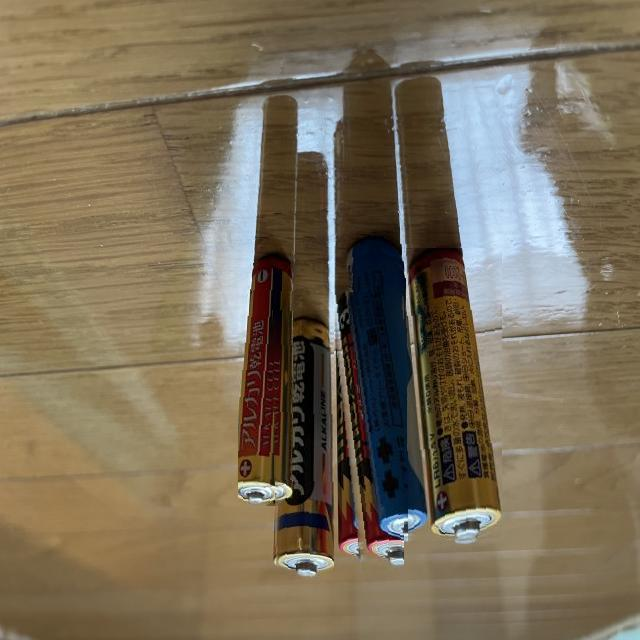battery: (340, 230, 436, 542), (406, 248, 502, 546), (330, 290, 404, 570), (272, 310, 334, 580), (238, 248, 296, 506)
